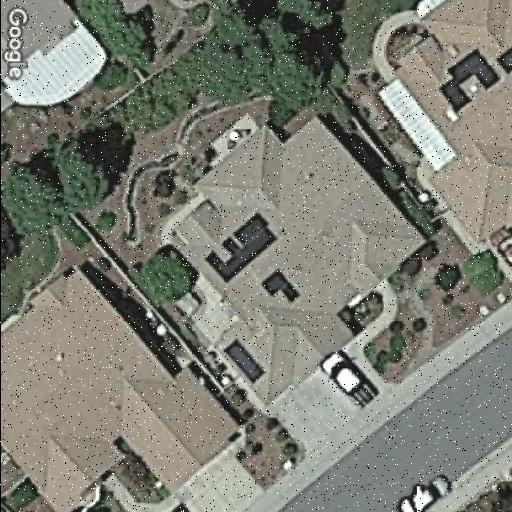solar-panel: (205, 210, 277, 284), (437, 44, 512, 114), (219, 336, 271, 384), (259, 268, 302, 308)
